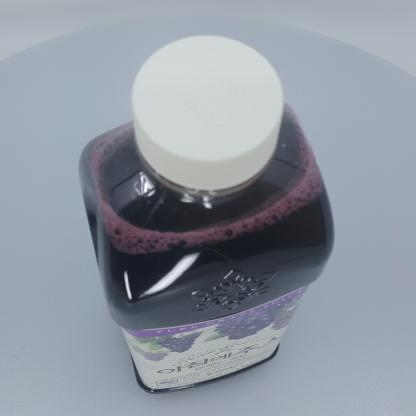------------950ML: (78, 34, 334, 396)
